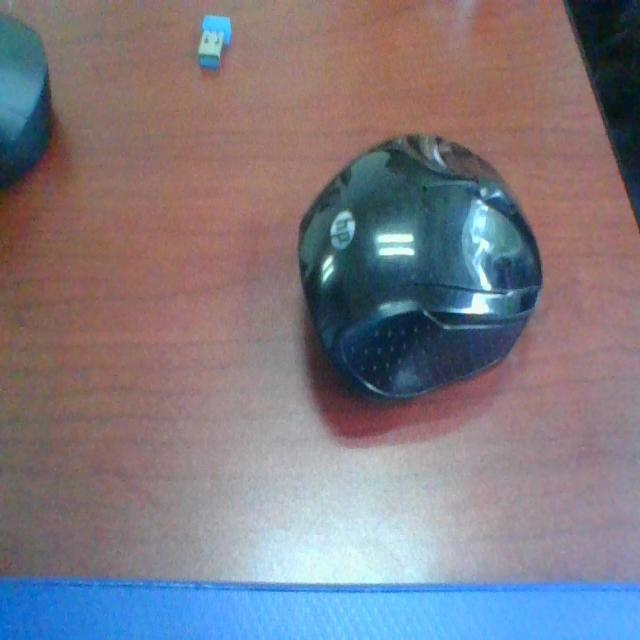mouse: (284, 133, 553, 454)
